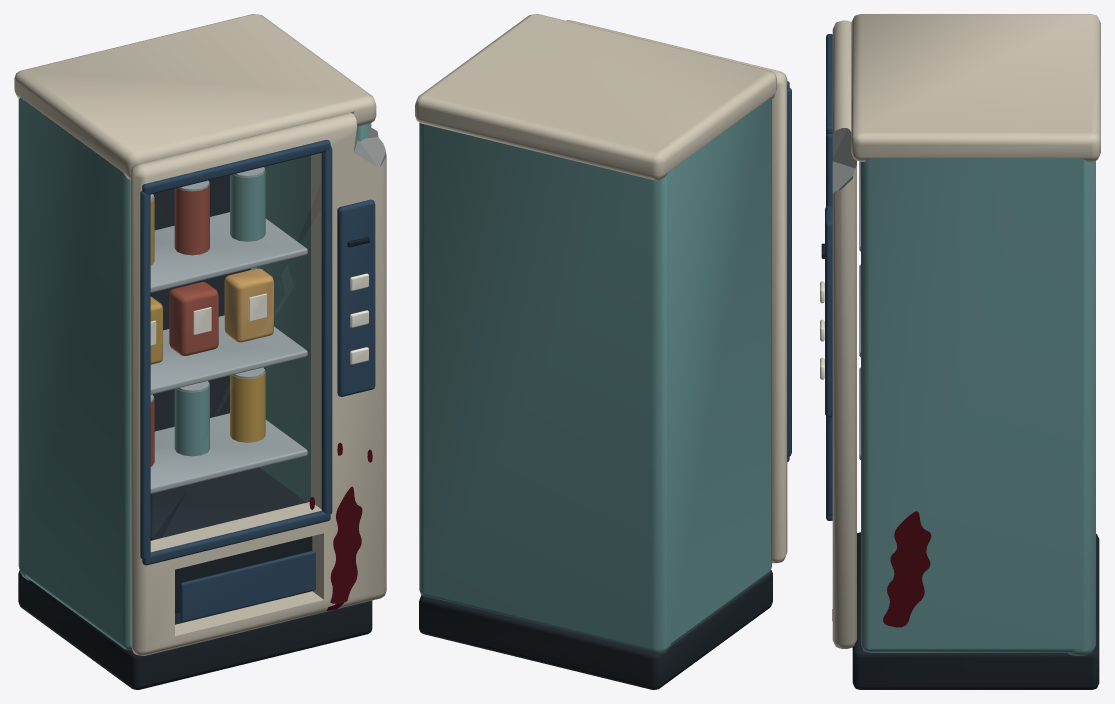
Rendered from cafeteria_vending_machine.glb.
The picture shows the model from 3 angles, left to right: view 1: azimuth 30°, elevation 25°; view 2: azimuth 150°, elevation 25°; view 3: azimuth 270°, elevation 25°; orthographic projection. The views are drawn at different scales.
Visible parts, largest first — view 1: Static_Shell_Mesh, Service_Front_Door_Mesh; view 2: Static_Shell_Mesh, Service_Front_Door_Mesh; view 3: Static_Shell_Mesh, Service_Front_Door_Mesh.
Part boxes in pixels (x1,y1,x2,y2): Static_Shell_Mesh: [14, 14, 376, 689]; Service_Front_Door_Mesh: [130, 111, 386, 655]; Static_Shell_Mesh: [415, 14, 776, 689]; Service_Front_Door_Mesh: [566, 20, 791, 563]; Static_Shell_Mesh: [851, 14, 1100, 689]; Service_Front_Door_Mesh: [820, 20, 856, 648].
Bounding box in the file's own units: 0.93 × 1.9 × 0.866.
